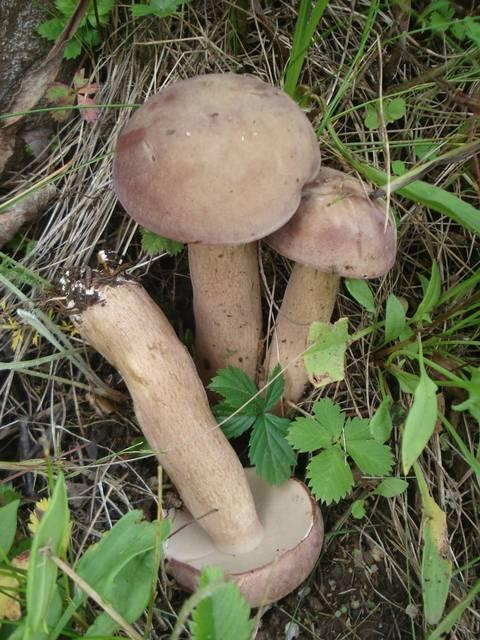poisonous_mushroom: (57, 262, 325, 608), (110, 70, 322, 396), (261, 165, 398, 415)
